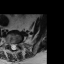CCS_normal: (12, 42, 14, 51)
LFS_stenosis: (16, 41, 19, 46)
LLS_normal: (14, 42, 16, 50)
RFS_normal: (8, 41, 10, 47)
RLS_normal: (10, 42, 12, 50)
